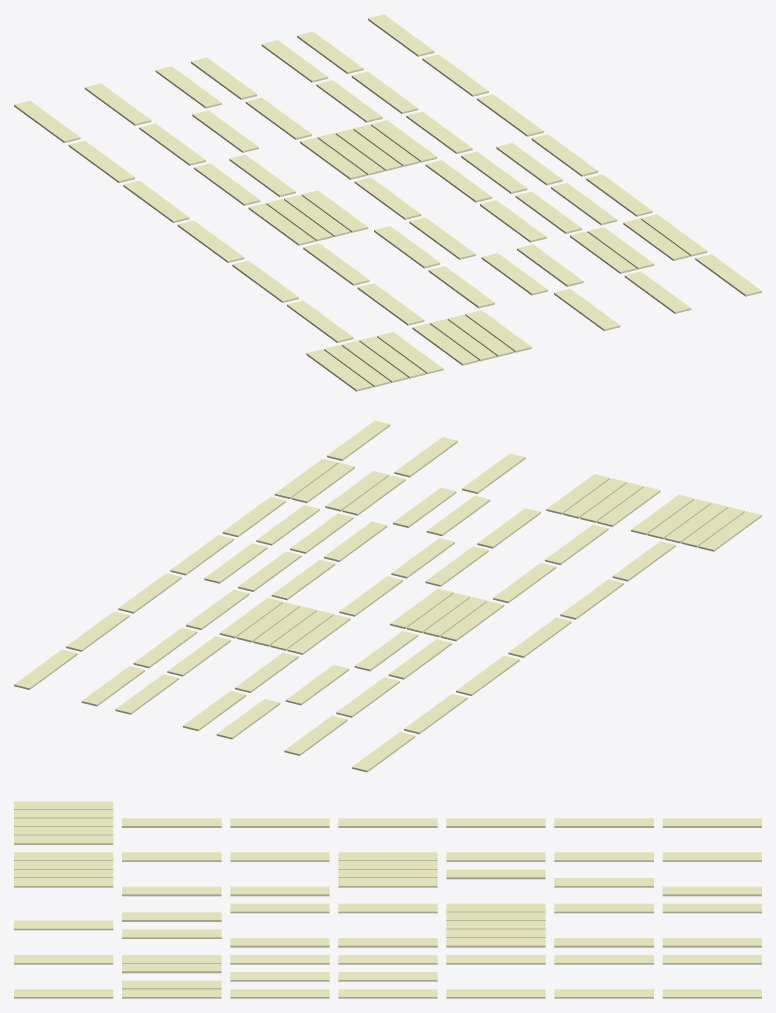
Rendered from marking_tram_text_white.glb.
The picture shows the model from 3 angles, top to bottom: view 1: azimuth 30°, elevation 25°; view 2: azimuth 150°, elevation 25°; view 3: azimuth 270°, elevation 25°; orthographic projection. The views are drawn at different scales.
Parts seen in each view (by area): view 1: tram_44, tram_10, tram_45, tram_56, tram_15, tram_31, tram_00, tram_08, tram_29, tram_30, tram_33, tram_34 (+51 smaller); view 2: tram_16, tram_28, tram_30, tram_35, tram_45, tram_54, tram_56, tram_00, tram_05, tram_06, tram_18, tram_19 (+51 smaller); view 3: tram_16, tram_18, tram_24, tram_32, tram_34, tram_41, tram_48, tram_28, tram_29, tram_43, tram_04, tram_05 (+51 smaller).
Boxes of the visible parts, box(x1,y1,x2,y2) form: tram_44: box(261, 40, 328, 82); tram_10: box(14, 100, 80, 142); tram_45: box(624, 271, 691, 313); tram_56: box(531, 134, 598, 176); tram_15: box(357, 283, 424, 325); tram_31: box(517, 244, 583, 286); tram_00: box(306, 349, 372, 391); tram_08: box(123, 180, 189, 222); tram_29: box(554, 289, 620, 331); tram_30: box(481, 253, 547, 295); tram_33: box(480, 200, 546, 242); tram_34: box(354, 177, 421, 219); tram_16: box(477, 508, 540, 548); tram_28: box(216, 699, 280, 739); tram_30: box(426, 496, 490, 536); tram_35: box(271, 560, 335, 600); tram_45: box(394, 437, 457, 477); tram_54: box(238, 551, 301, 591); tram_56: box(170, 535, 233, 575); tram_00: box(698, 511, 761, 551); tram_05: box(612, 541, 675, 581); tram_06: box(560, 579, 623, 619); tram_18: box(425, 546, 488, 586); tram_19: box(440, 601, 504, 641); tram_16: box(122, 886, 221, 896); tram_18: box(230, 886, 329, 896); tram_24: box(446, 869, 545, 879); tram_32: box(230, 903, 329, 913); tram_34: box(338, 903, 437, 913); tram_41: box(554, 903, 653, 913); tram_48: box(122, 963, 221, 973); tram_28: box(662, 886, 761, 896); tram_29: box(14, 920, 113, 930); tram_43: box(662, 903, 761, 913); tram_04: box(14, 835, 113, 844); tram_05: box(122, 818, 221, 827).
Bounding box in the file's own units: 1.18 × 0.005 × 1.9.
